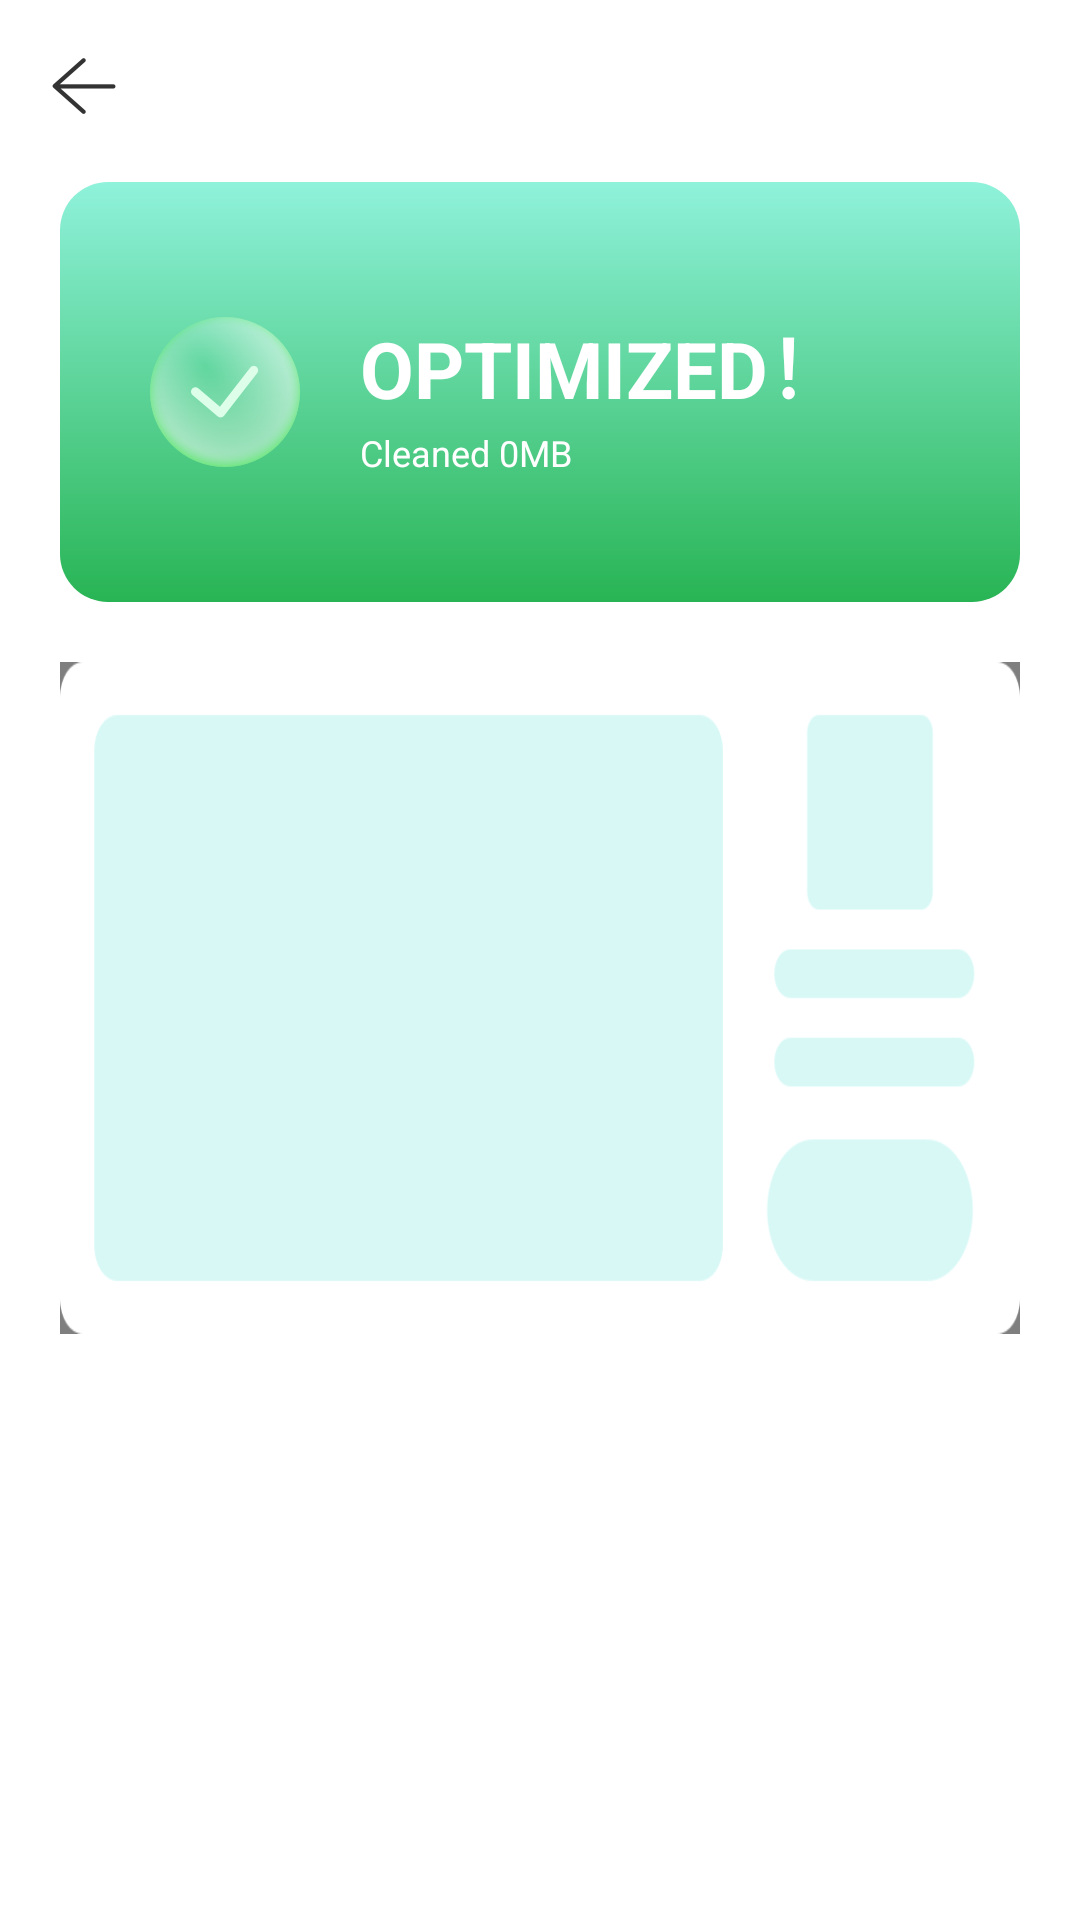

Point at icon controls on the screen. Image size 1080x1920, points as [x,y].
back: [84,86]
success: [225,392]
